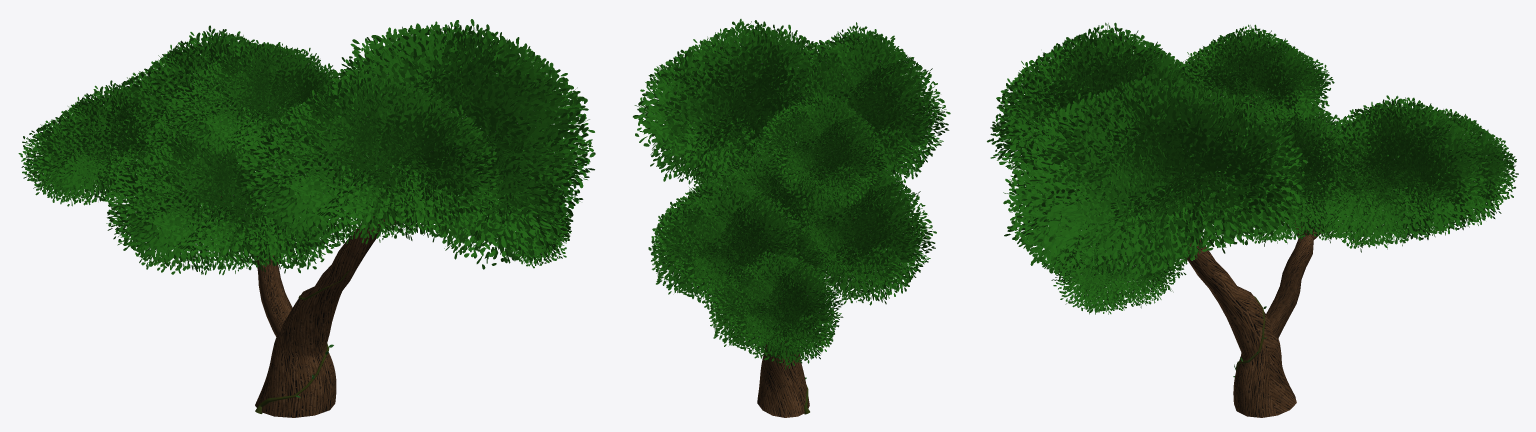
The model's file is cay vua.fbx.
3 renders of one model, left to right at view 1: azimuth 30°, elevation 25°; view 2: azimuth 150°, elevation 25°; view 3: azimuth 270°, elevation 25°, orthographic. The views are drawn at different scales.
Parts seen in each view (by area): view 1: NurbsPath.001; view 2: NurbsPath.001; view 3: NurbsPath.001.
Part boxes in pixels (x1,y1,x2,y2): NurbsPath.001: (18, 19, 595, 417); NurbsPath.001: (633, 19, 950, 417); NurbsPath.001: (987, 22, 1518, 417).
Bounding box in the file's own units: 1086 × 1045 × 1328.
Materials: 4 (4 with a texture image).
